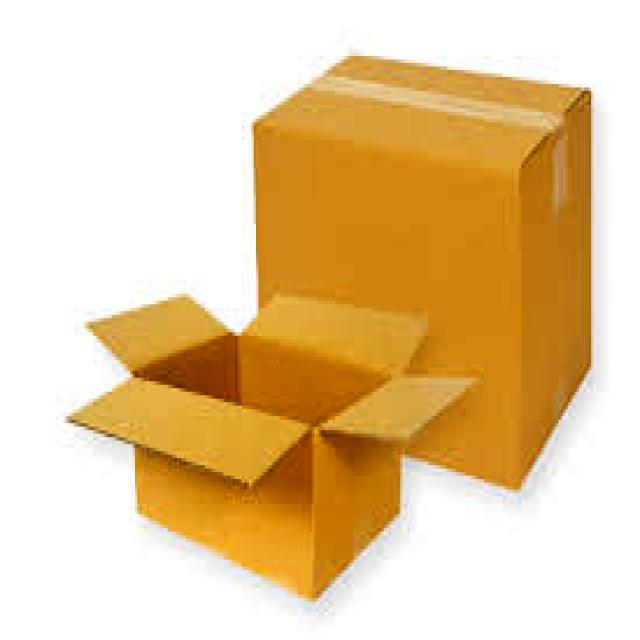Cardboard: (251, 48, 598, 496), (63, 287, 485, 609)
